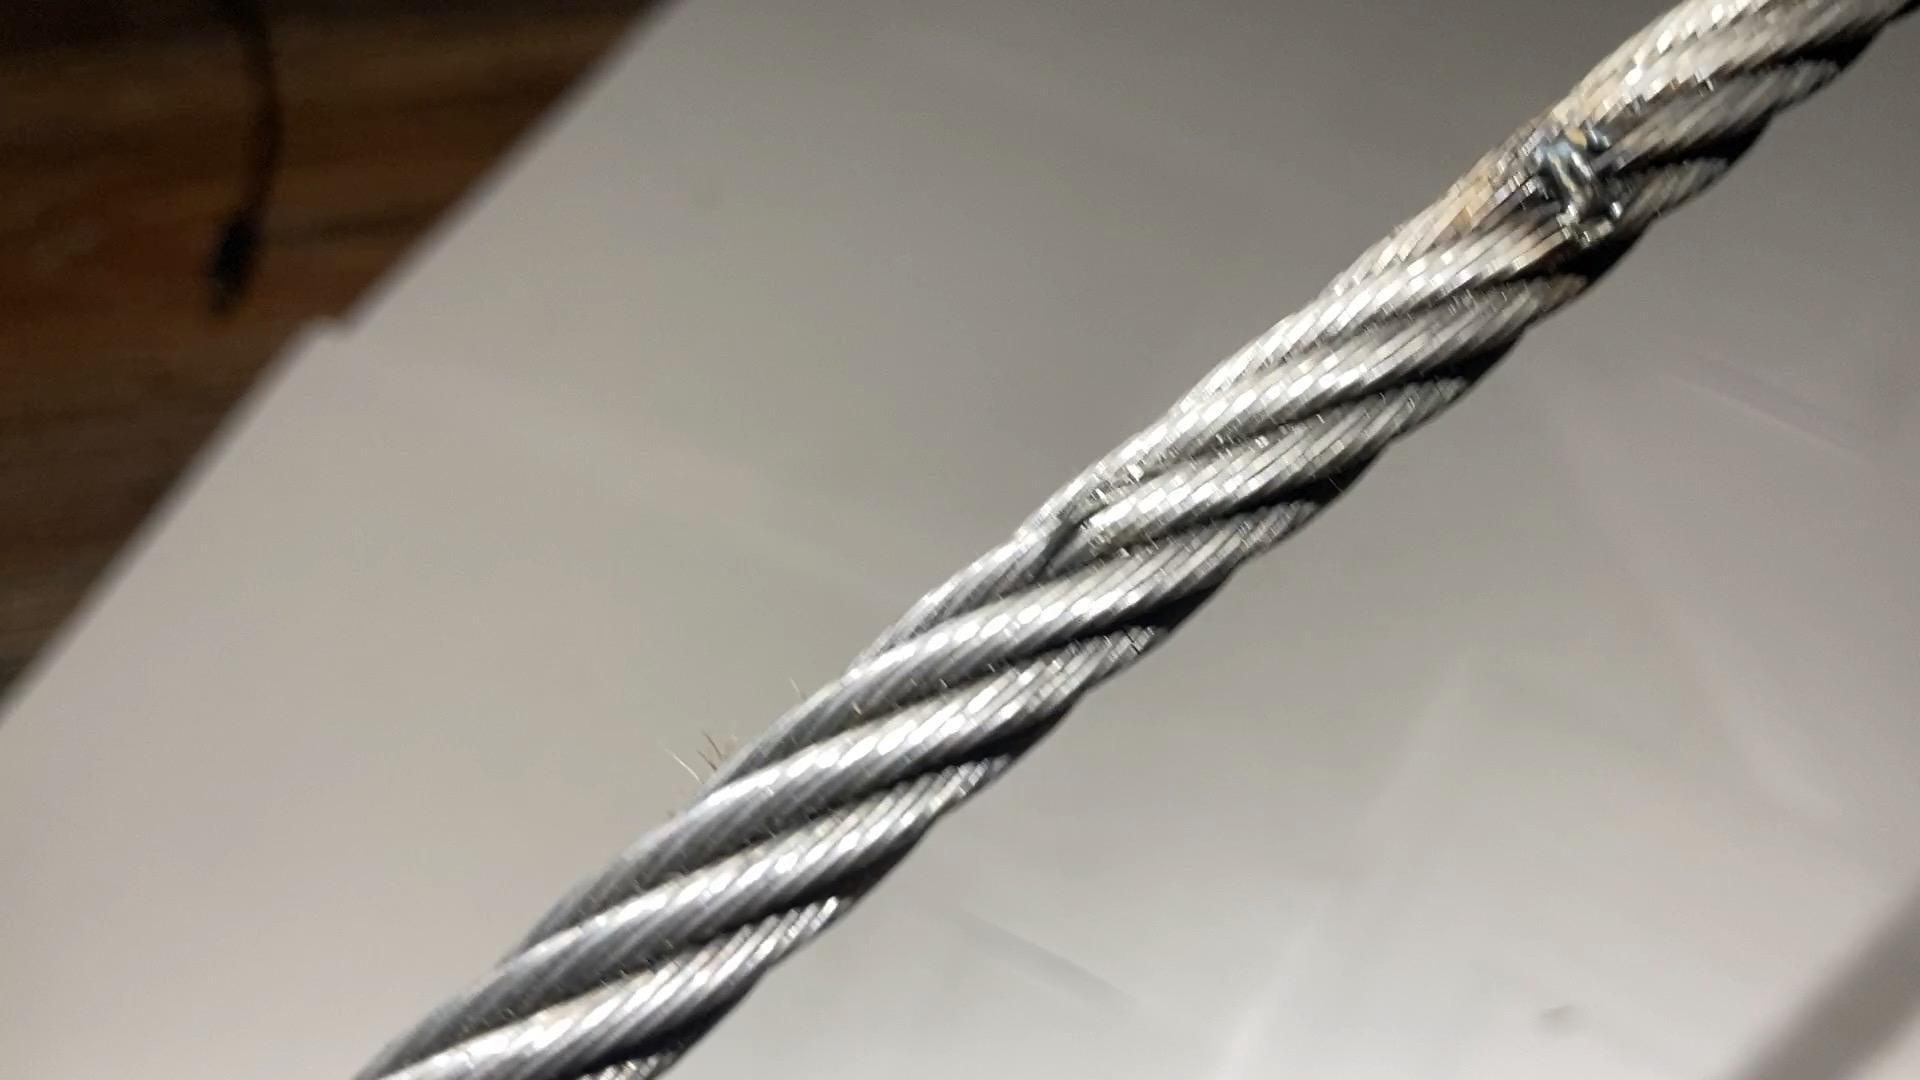thunderbolt: (1520, 123, 1636, 233)
